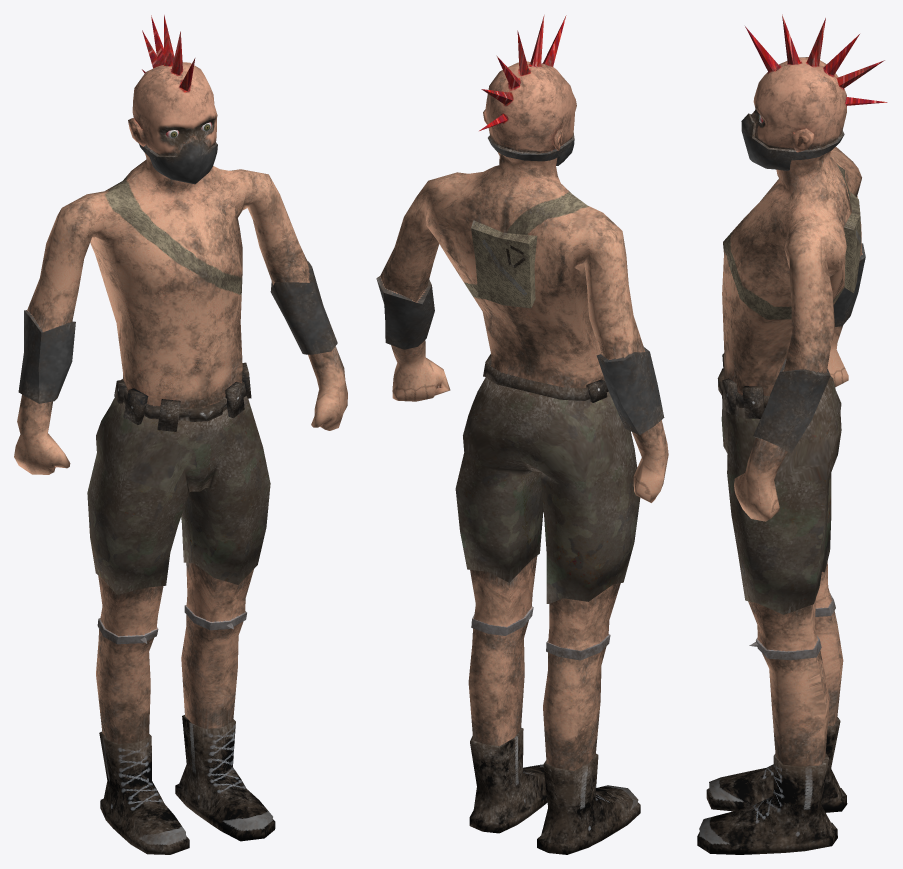
File: Anim_disparar_pistola_npc2.0012.obj
The picture shows the model from 3 angles, left to right: view 1: azimuth 30°, elevation 25°; view 2: azimuth 150°, elevation 25°; view 3: azimuth 270°, elevation 25°; orthographic projection. The views are drawn at different scales.
Parts seen in each view (by area): view 1: polySurface1; view 2: polySurface1; view 3: polySurface1.
Part boxes in pixels (x1,y1,x2,y2): polySurface1: [14, 15, 347, 854]; polySurface1: [376, 15, 668, 854]; polySurface1: [697, 14, 887, 854].
Size of the model in its own units: 4.03 by 10.18 by 2.18.
Materials: 2 (2 with a texture image).
